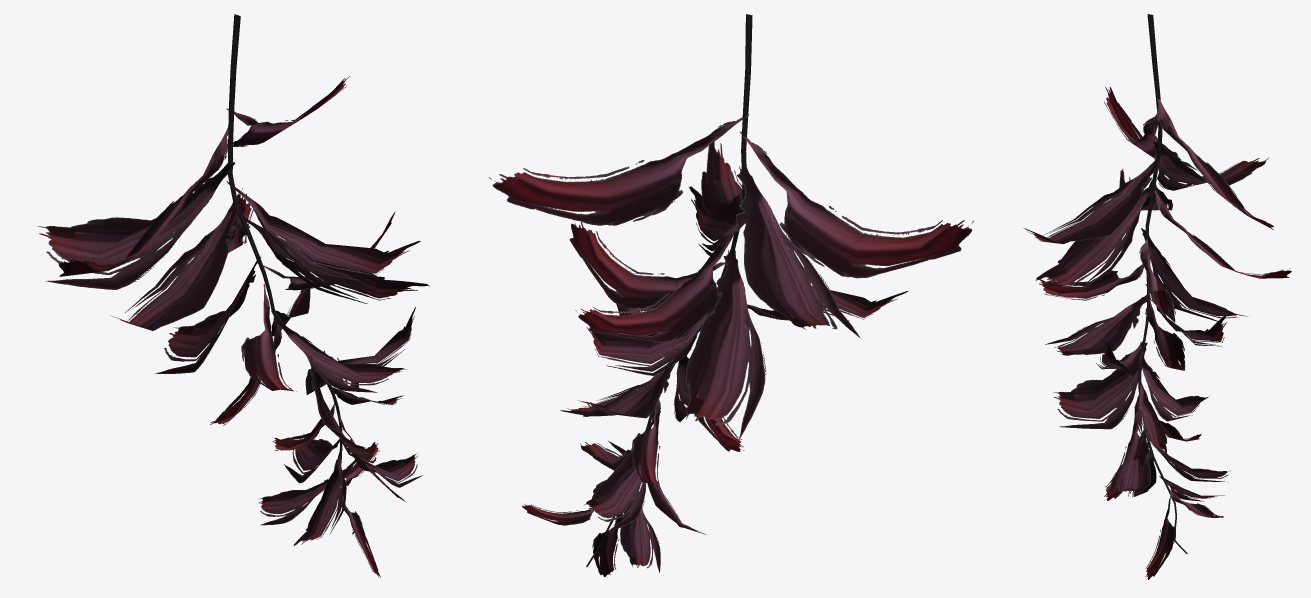
The model's file is BIO_VEG_Infected_Plant_01B.fbx.
3 views of the same model, side by side, from view 1: azimuth 30°, elevation 25°; view 2: azimuth 150°, elevation 25°; view 3: azimuth 270°, elevation 25° (orthographic). The views are drawn at different scales.
Visible parts, largest first — view 1: BIO_VEG_Infected_Plant_01B; view 2: BIO_VEG_Infected_Plant_01B; view 3: BIO_VEG_Infected_Plant_01B.
Part boxes in pixels (x1,y1,x2,y2): BIO_VEG_Infected_Plant_01B: [37, 14, 429, 577]; BIO_VEG_Infected_Plant_01B: [488, 14, 973, 577]; BIO_VEG_Infected_Plant_01B: [1023, 14, 1291, 579].
Size of the model in its own units: 65.16 by 92.56 by 46.65.
